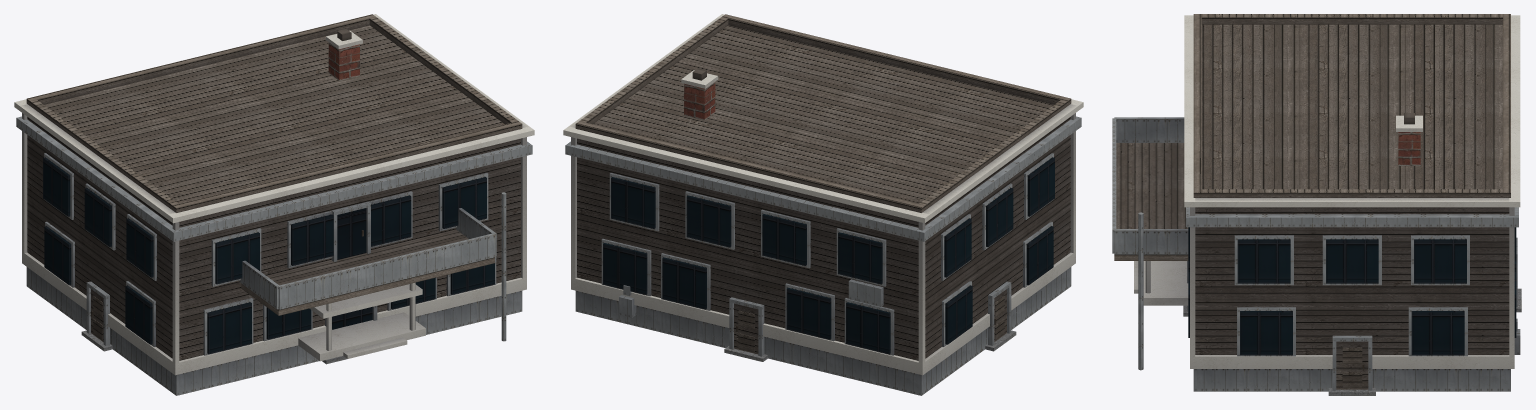
The model's file is port-halcyon-marina-office_lod0.gltf.
The picture shows the model from 3 angles, left to right: view 1: azimuth 30°, elevation 25°; view 2: azimuth 150°, elevation 25°; view 3: azimuth 270°, elevation 25°; orthographic projection. The views are drawn at different scales.
Parts seen in each view (by area): view 1: port-halcyon-marina-office_upper, port-halcyon-marina-office__v4_stone_detail, port-halcyon-marina-office_fen_07-glass-curtain-blue_1_t, port-halcyon-marina-office_base, port-halcyon-marina-office__cornice, port-halcyon-marina-office_fen_14-steel-panel_0, port-halcyon-marina-office__deck_rail_front, port-halcyon-marina-office__deck, port-halcyon-marina-office__parapet_back, port-halcyon-marina-office__parapet_front, port-halcyon-marina-office__parapet_right, port-halcyon-marina-office__parapet_left (+4 smaller); view 2: port-halcyon-marina-office_upper, port-halcyon-marina-office_fen_07-glass-curtain-blue_1_t, port-halcyon-marina-office__v4_stone_detail, port-halcyon-marina-office_base, port-halcyon-marina-office_fen_14-steel-panel_0, port-halcyon-marina-office__cornice, port-halcyon-marina-office__parapet_front, port-halcyon-marina-office__parapet_back, port-halcyon-marina-office__parapet_right, port-halcyon-marina-office__parapet_left, port-halcyon-marina-office__v4_brick_detail, port-halcyon-marina-office_fen_18-timber-siding_4 (+2 smaller); view 3: port-halcyon-marina-office_upper, port-halcyon-marina-office__v4_stone_detail, port-halcyon-marina-office_fen_07-glass-curtain-blue_1_t, port-halcyon-marina-office__deck, port-halcyon-marina-office_base, port-halcyon-marina-office_fen_14-steel-panel_0, port-halcyon-marina-office__cornice, port-halcyon-marina-office__parapet_left, port-halcyon-marina-office__parapet_right, port-halcyon-marina-office__deck_rail_right, port-halcyon-marina-office__deck_rail_left, port-halcyon-marina-office__parapet_front (+7 smaller).
Boxes of the visible parts, left/top/right/bottom form: port-halcyon-marina-office_upper: left=27, top=25, right=520, bottom=360; port-halcyon-marina-office__v4_stone_detail: left=14, top=14, right=534, bottom=375; port-halcyon-marina-office_fen_07-glass-curtain-blue_1_t: left=43, top=157, right=494, bottom=354; port-halcyon-marina-office_base: left=26, top=267, right=522, bottom=395; port-halcyon-marina-office__cornice: left=16, top=116, right=532, bottom=241; port-halcyon-marina-office_fen_14-steel-panel_0: left=44, top=153, right=496, bottom=355; port-halcyon-marina-office__deck_rail_front: left=278, top=233, right=495, bottom=309; port-halcyon-marina-office__deck: left=241, top=229, right=494, bottom=315; port-halcyon-marina-office__parapet_back: left=26, top=14, right=375, bottom=105; port-halcyon-marina-office__parapet_front: left=172, top=121, right=522, bottom=212; port-halcyon-marina-office__parapet_right: left=369, top=17, right=517, bottom=124; port-halcyon-marina-office__parapet_left: left=30, top=100, right=178, bottom=209; port-halcyon-marina-office_upper: left=577, top=25, right=1070, bottom=360; port-halcyon-marina-office_fen_07-glass-curtain-blue_1_t: left=603, top=157, right=1054, bottom=354; port-halcyon-marina-office__v4_stone_detail: left=563, top=14, right=1083, bottom=375; port-halcyon-marina-office_base: left=575, top=267, right=1071, bottom=395; port-halcyon-marina-office_fen_14-steel-panel_0: left=601, top=153, right=1053, bottom=356; port-halcyon-marina-office__cornice: left=565, top=116, right=1081, bottom=241; port-halcyon-marina-office__parapet_front: left=722, top=14, right=1071, bottom=105; port-halcyon-marina-office__parapet_back: left=575, top=121, right=925, bottom=212; port-halcyon-marina-office__parapet_right: left=580, top=17, right=728, bottom=124; port-halcyon-marina-office__parapet_left: left=919, top=100, right=1067, bottom=209; port-halcyon-marina-office__v4_brick_detail: left=684, top=82, right=715, bottom=120; port-halcyon-marina-office_fen_18-timber-siding_4: left=734, top=289, right=1006, bottom=354; port-halcyon-marina-office_upper: left=1195, top=24, right=1509, bottom=354; port-halcyon-marina-office__v4_stone_detail: left=1134, top=15, right=1520, bottom=368; port-halcyon-marina-office_fen_07-glass-curtain-blue_1_t: left=1188, top=227, right=1516, bottom=355; port-halcyon-marina-office__deck: left=1114, top=143, right=1188, bottom=260; port-halcyon-marina-office_base: left=1193, top=369, right=1510, bottom=391; port-halcyon-marina-office_fen_14-steel-panel_0: left=1187, top=235, right=1520, bottom=390; port-halcyon-marina-office__cornice: left=1186, top=207, right=1518, bottom=227; port-halcyon-marina-office__parapet_left: left=1201, top=14, right=1502, bottom=24; port-halcyon-marina-office__parapet_right: left=1201, top=189, right=1502, bottom=197; port-halcyon-marina-office__deck_rail_right: left=1114, top=229, right=1188, bottom=254; port-halcyon-marina-office__deck_rail_left: left=1114, top=117, right=1184, bottom=142; port-halcyon-marina-office__parapet_front: left=1193, top=14, right=1201, bottom=197.
Bounding box in the file's own units: 16.8 × 9.89 × 15.47.
